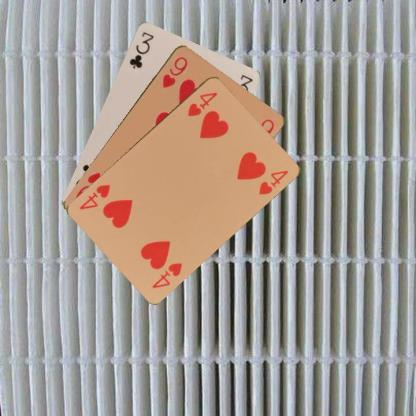3c: (126, 28, 155, 70)
4h: (149, 260, 184, 290), (185, 89, 219, 118)
9h: (159, 53, 189, 89)
